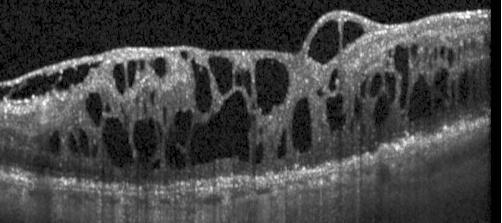intraretinal_cyst: (188, 90, 256, 165), (255, 58, 290, 115), (101, 117, 135, 168), (308, 20, 340, 65), (388, 46, 409, 110), (9, 73, 60, 99), (190, 58, 212, 113), (56, 62, 99, 90), (132, 118, 158, 162), (407, 75, 432, 120), (292, 97, 312, 153), (208, 56, 232, 94), (324, 94, 346, 132), (165, 133, 187, 169), (432, 69, 449, 112), (342, 21, 365, 49), (85, 93, 103, 127), (373, 96, 388, 126), (112, 64, 125, 95), (174, 110, 192, 130), (385, 72, 396, 103), (370, 73, 384, 97), (459, 71, 469, 104), (149, 58, 166, 77), (49, 130, 61, 153), (277, 131, 287, 158), (127, 61, 137, 87), (353, 95, 363, 119), (80, 130, 89, 156), (120, 104, 130, 125), (329, 69, 338, 92), (243, 71, 251, 96), (68, 132, 77, 153), (255, 143, 263, 164), (156, 122, 164, 143), (0, 87, 12, 101), (447, 49, 455, 68), (360, 80, 367, 99), (410, 44, 418, 60), (450, 81, 456, 101), (91, 138, 97, 156), (235, 71, 241, 86), (152, 159, 160, 169), (463, 42, 468, 57), (424, 47, 429, 62), (440, 46, 445, 60), (469, 40, 476, 50), (428, 56, 433, 70), (317, 88, 325, 96), (163, 106, 166, 126), (150, 93, 155, 105), (181, 52, 187, 61), (140, 61, 145, 71), (457, 47, 460, 63), (415, 58, 421, 66), (106, 103, 111, 112), (434, 48, 437, 60), (385, 61, 389, 68), (135, 98, 139, 104), (144, 104, 146, 114)
